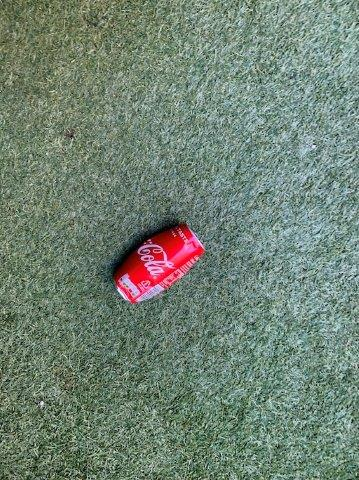kaleng: (115, 225, 204, 301)
